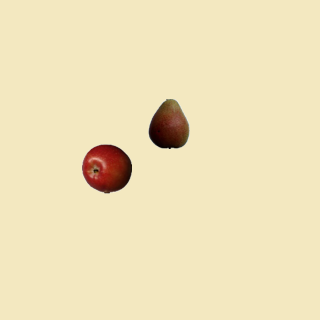Apple Braeburn: (81, 143, 131, 193)
Pear Forelle: (143, 98, 193, 148)
